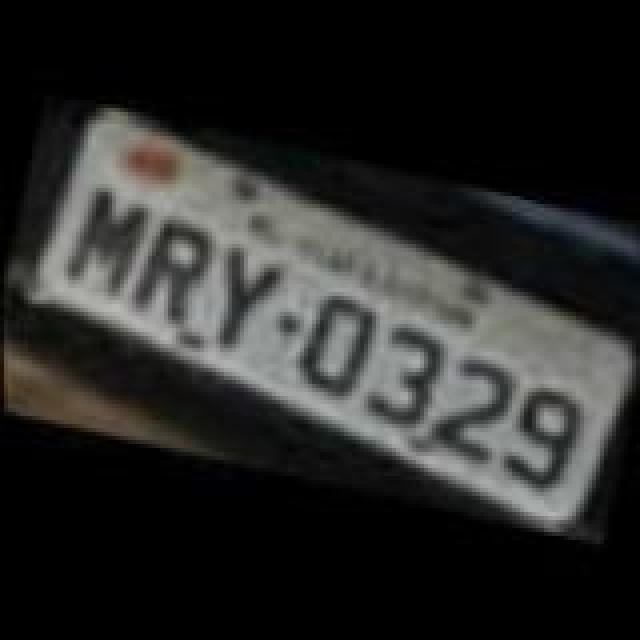2: (420, 350, 524, 474)
3: (356, 322, 452, 438)
9: (494, 380, 586, 500)
M: (54, 172, 154, 300)
O: (288, 292, 388, 408)
R: (126, 216, 214, 332)
Y: (192, 236, 292, 364)
